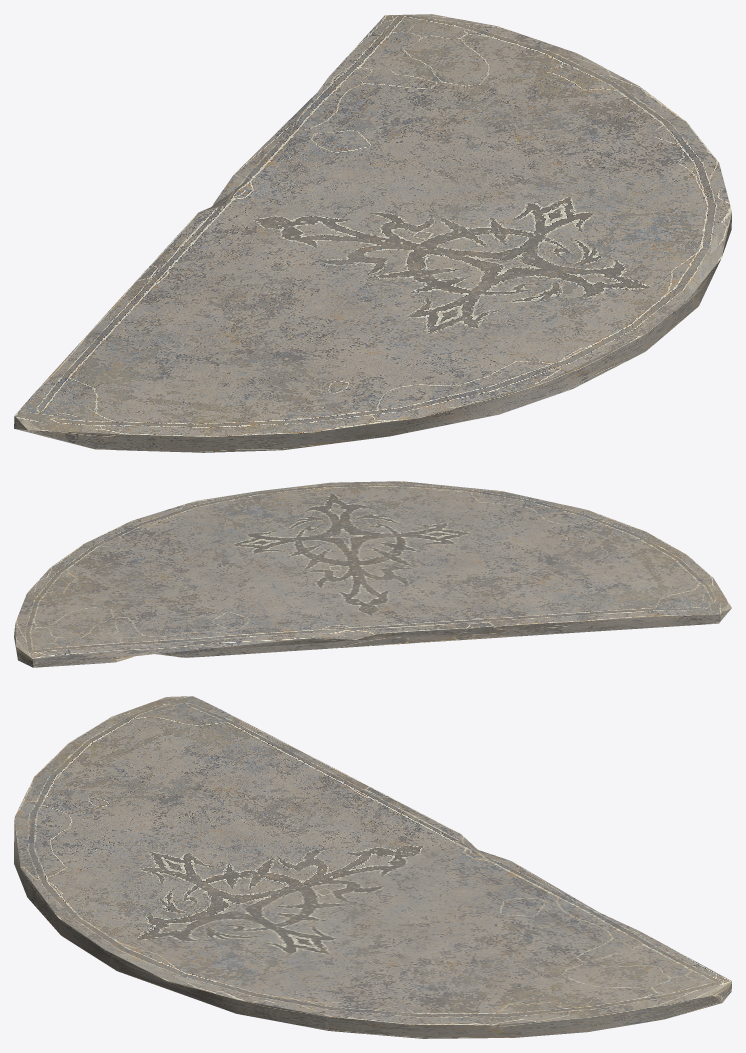
The picture shows the model from 3 angles, top to bottom: view 1: azimuth 30°, elevation 25°; view 2: azimuth 150°, elevation 25°; view 3: azimuth 270°, elevation 25°; orthographic projection. The views are drawn at different scales.
Parts seen in each view (by area): view 1: SM_bosslogotile__3_; view 2: SM_bosslogotile__3_; view 3: SM_bosslogotile__3_.
Boxes of the visible parts, x1,y1,x2,y2 form: SM_bosslogotile__3_: (14, 14, 731, 452); SM_bosslogotile__3_: (14, 481, 731, 667); SM_bosslogotile__3_: (14, 696, 731, 1038).
Size of the model in its own units: 505 by 11.47 by 461.
